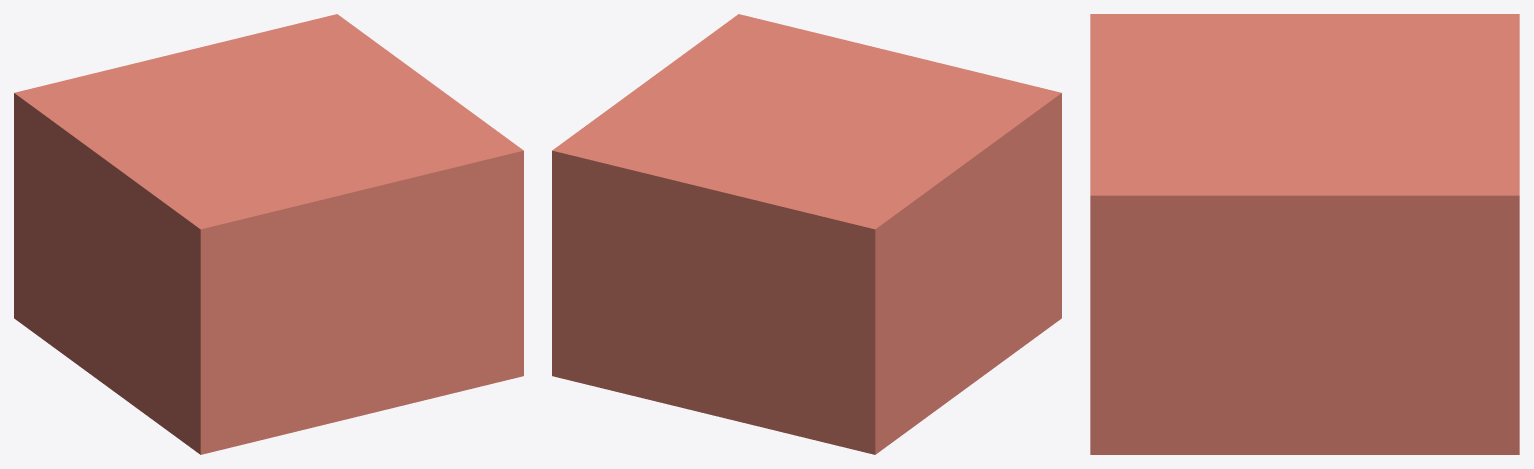
File: serial_test_example_fn_std-solid-split1_output.glb
3 renders of one model, left to right at view 1: azimuth 30°, elevation 25°; view 2: azimuth 150°, elevation 25°; view 3: azimuth 270°, elevation 25°, orthographic. The views are drawn at different scales.
Bounding box in the file's own units: 0.003 × 0.002 × 0.003.
